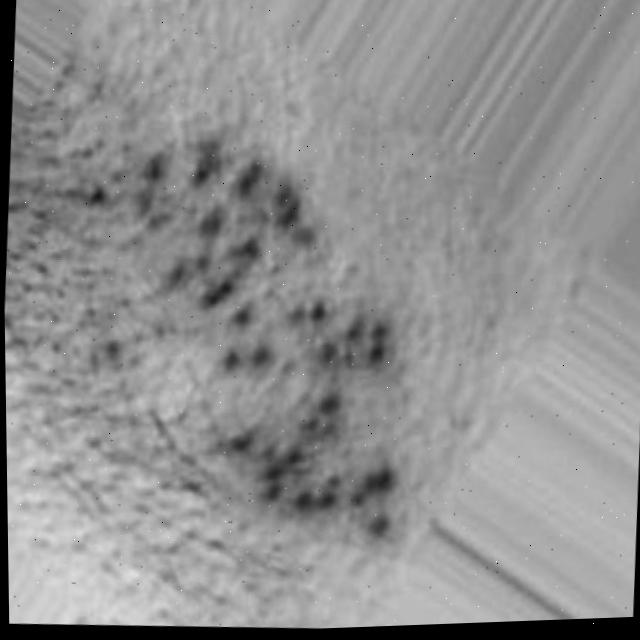Shingles: (59, 111, 425, 551)
